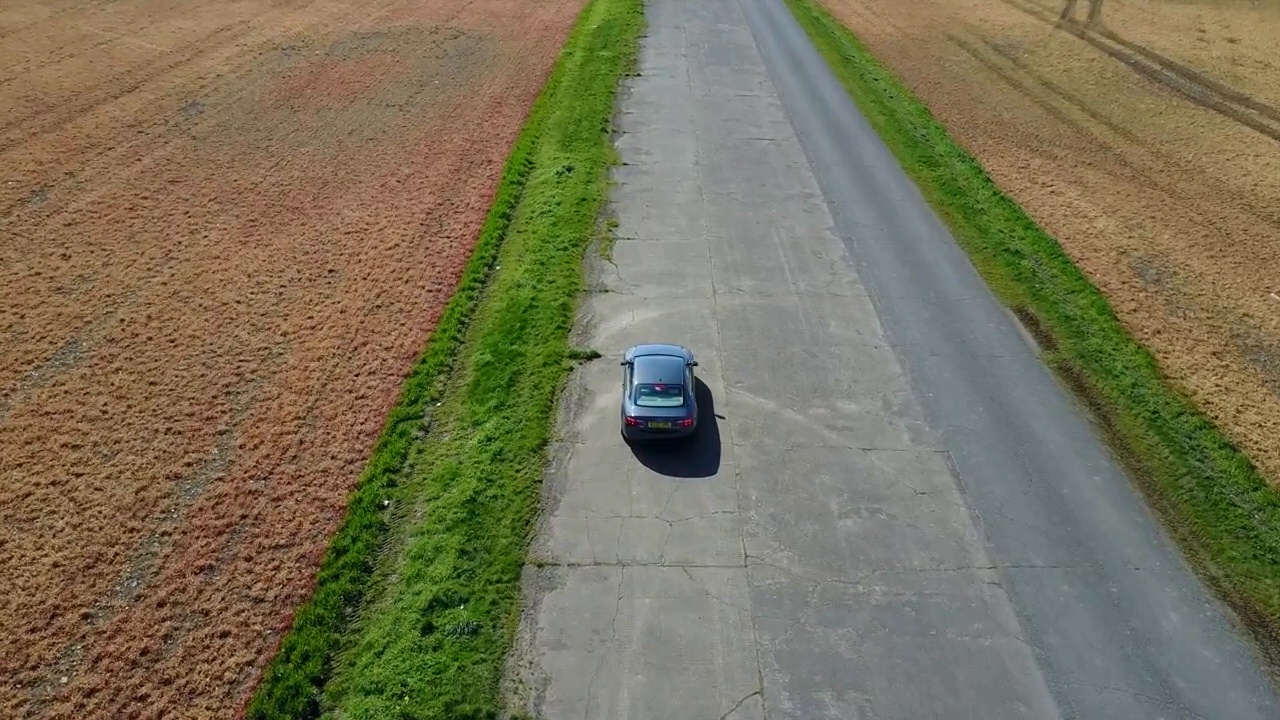araba: (621, 340, 703, 432)
